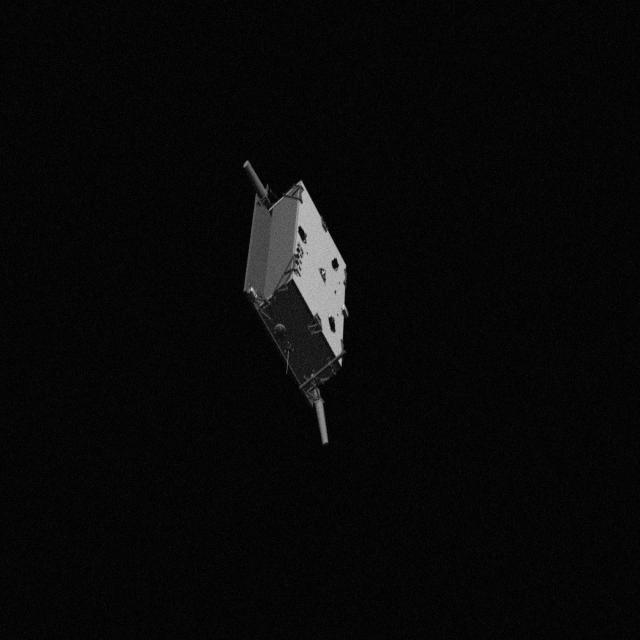satellite: (228, 156, 364, 454)
